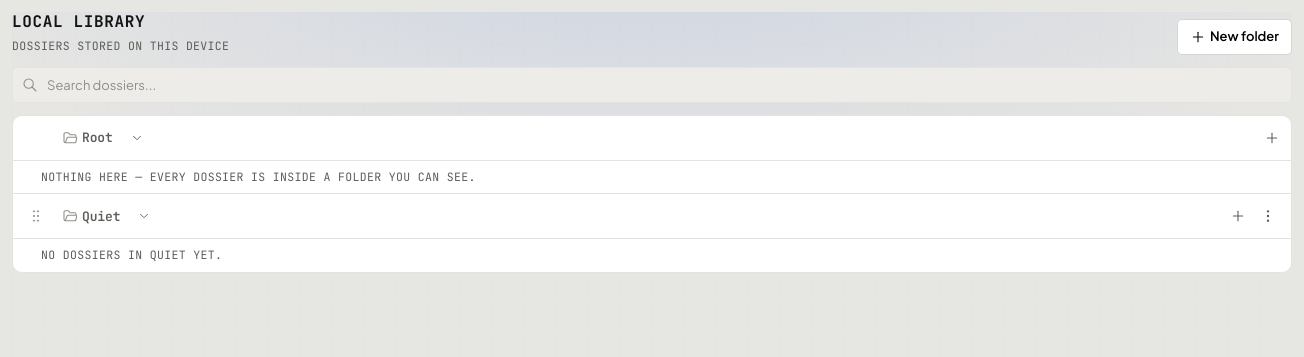
Scenario: LibraryPanel — container and contained › says what a delete of an empty folder costs, which is one folder
Click the button named "Actions for Quiet": {"x": 1268, "y": 216} top-left (1255, 199), bottom-right (1281, 233)
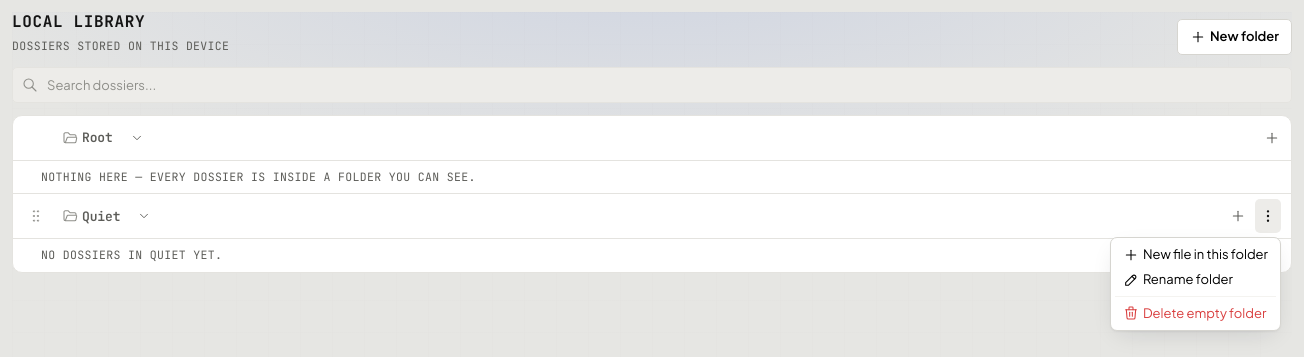
Expected: the menu item "Delete empty folder" is shown, top-left (1115, 301), bottom-right (1276, 326)
